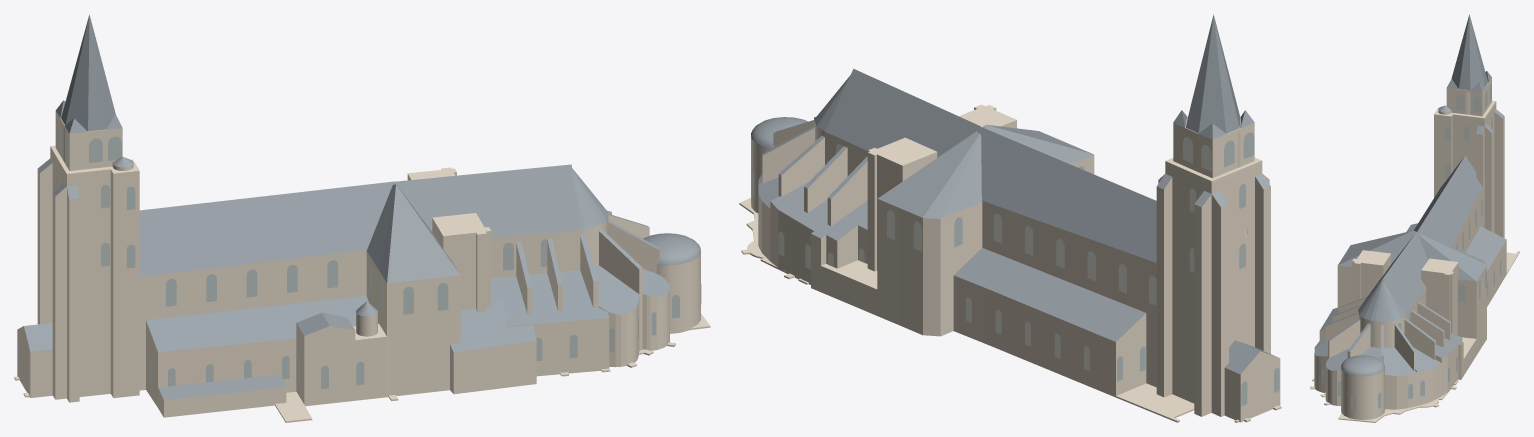
3 renders of one model, left to right at view 1: azimuth 30°, elevation 25°; view 2: azimuth 150°, elevation 25°; view 3: azimuth 270°, elevation 25°, orthographic. The views are drawn at different scales.
Visible parts, largest first — view 1: stone, roof, window; view 2: stone, roof, window; view 3: stone, roof, window.
Boxes of the visible parts, x1,y1,x2,y2 form: stone: (14,111,710,422); roof: (24,14,700,399); window: (17,126,701,389); stone: (739,104,1281,422); roof: (751,14,1277,374); window: (751,129,1279,406); stone: (1310,78,1519,422); roof: (1314,14,1506,376); window: (1322,84,1501,410).
Bounding box in the file's own units: 102 × 60 × 47.61.
